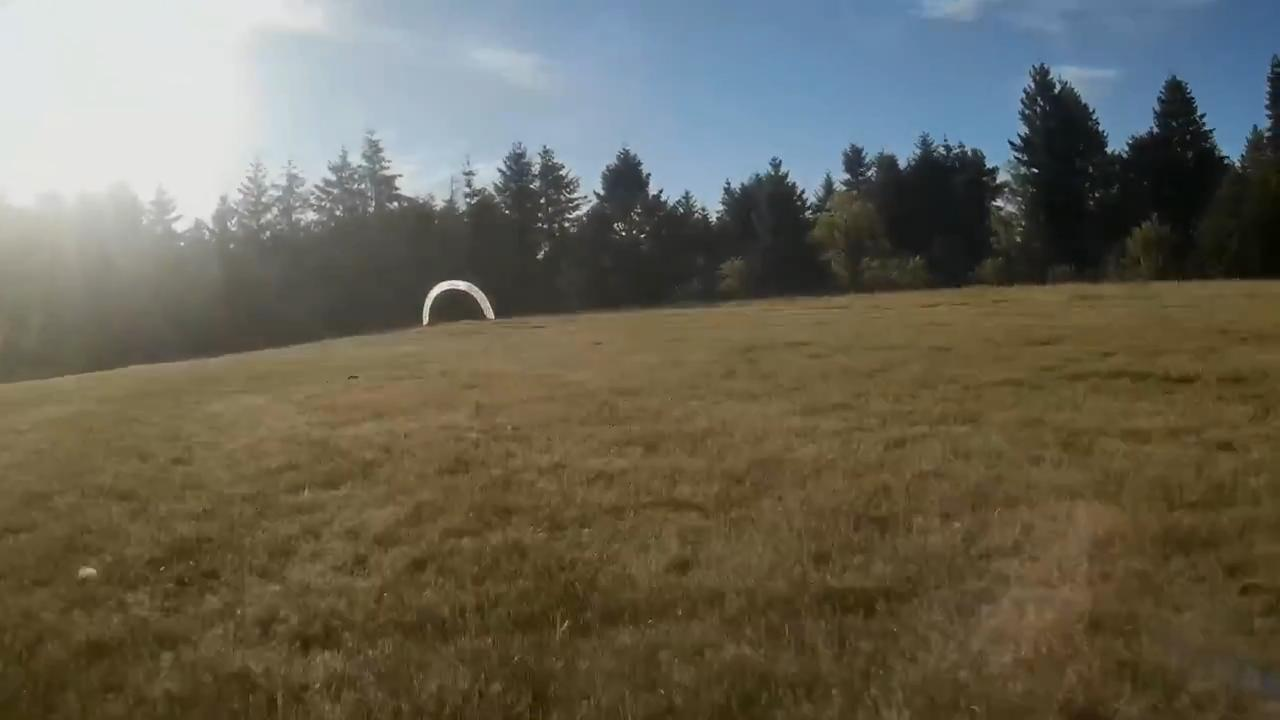gate: (421, 277, 492, 327)
